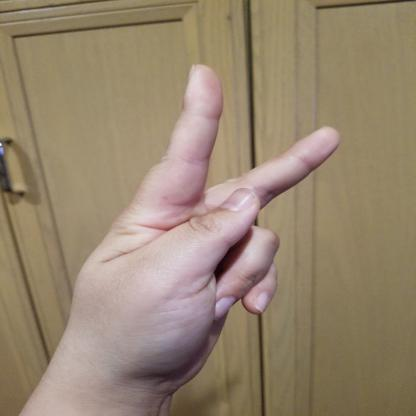K: (60, 57, 346, 392)
